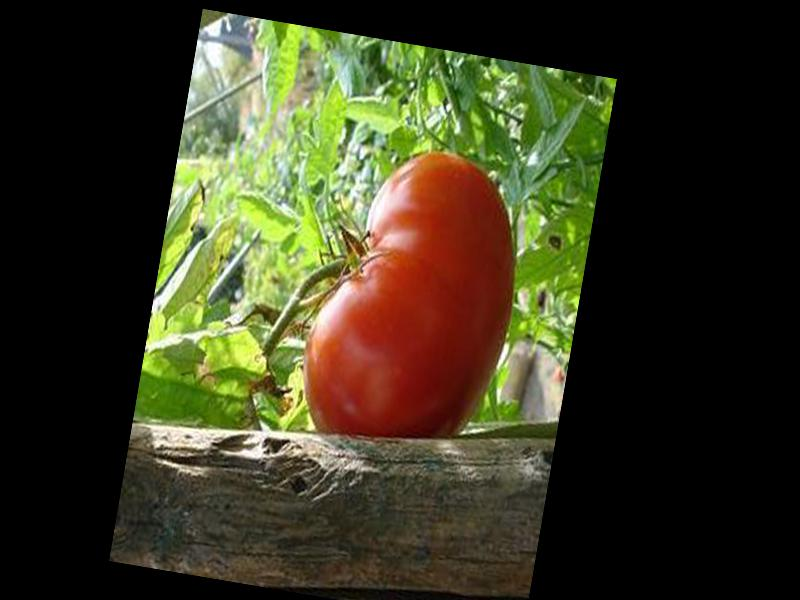Tomato: (291, 134, 533, 464)
